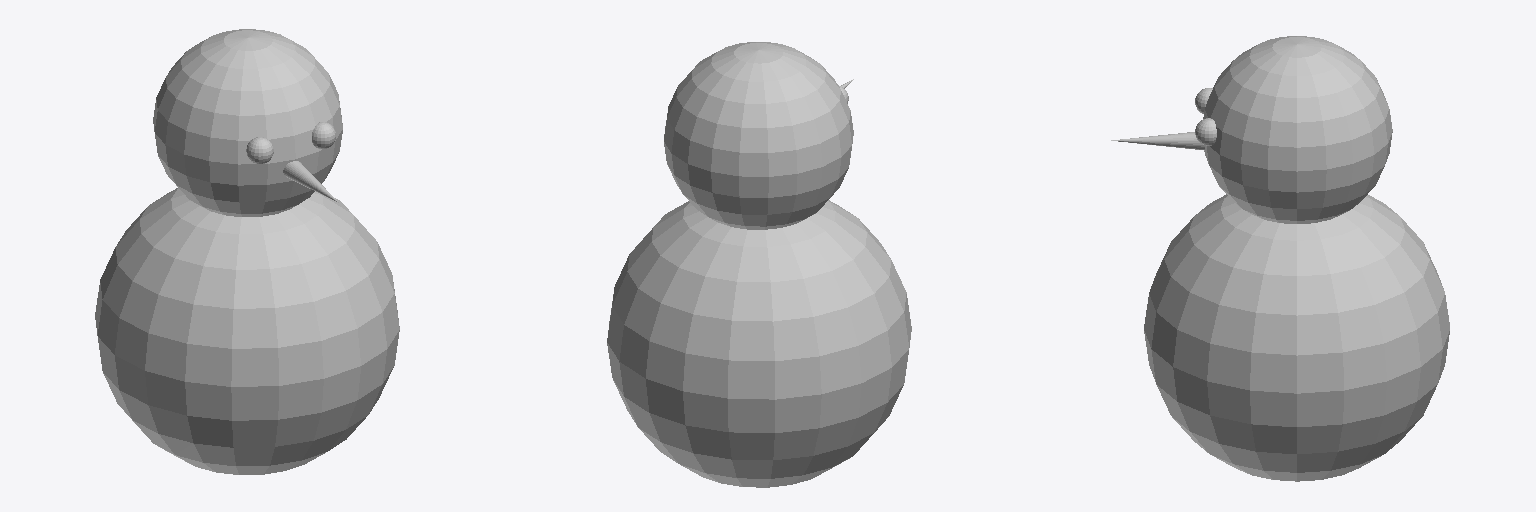
Rendered from snowman.obj.
3 renders of one model, left to right at view 1: azimuth 30°, elevation 25°; view 2: azimuth 150°, elevation 25°; view 3: azimuth 270°, elevation 25°, orthographic.
Parts seen in each view (by area): view 1: Sphere.001; view 2: Sphere.001; view 3: Sphere.001.
Part boxes in pixels (x1,y1,x2,y2): Sphere.001: (95, 29, 399, 474); Sphere.001: (607, 42, 911, 487); Sphere.001: (1111, 36, 1449, 481).
Size of the model in its own units: 2 by 3.05 by 2.22.